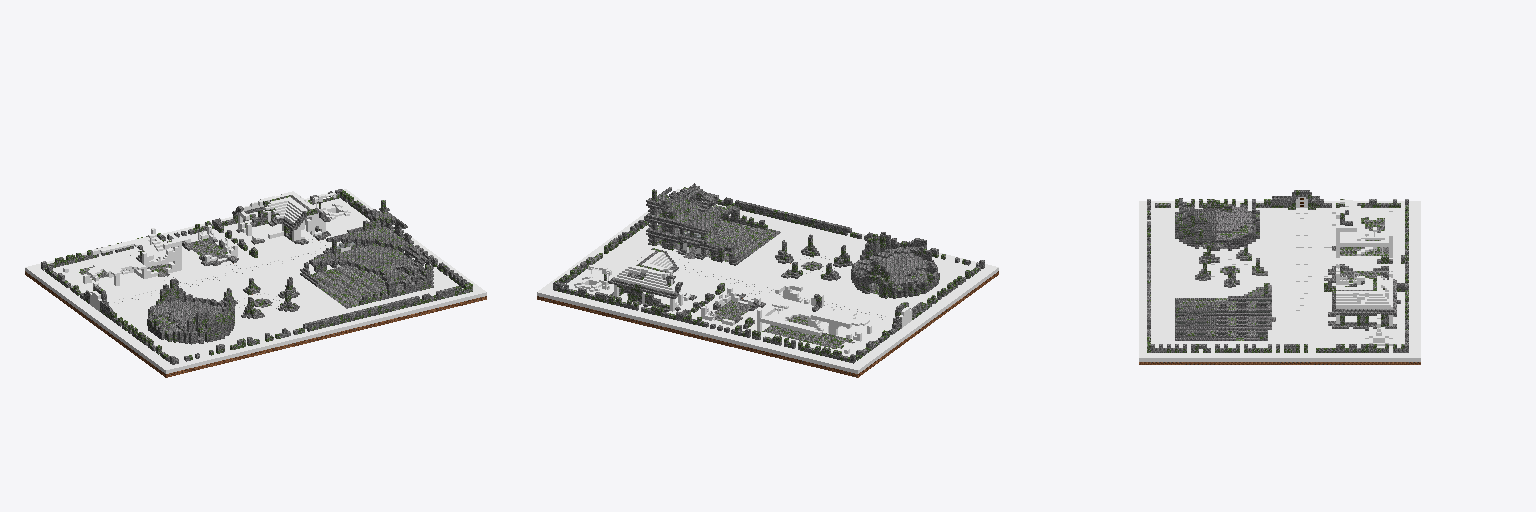
The picture shows the model from 3 angles: view 1: azimuth 30°, elevation 25°; view 2: azimuth 150°, elevation 25°; view 3: azimuth 270°, elevation 25°; orthographic projection.
Visible parts, largest first — view 1: __(1)__-85_2_132_to_6_255_201; view 2: __(1)__-85_2_132_to_6_255_201; view 3: __(1)__-85_2_132_to_6_255_201.
Part boxes in pixels (x1,y1,x2,y2): __(1)__-85_2_132_to_6_255_201: (25,189,486,377); __(1)__-85_2_132_to_6_255_201: (537,183,998,377); __(1)__-85_2_132_to_6_255_201: (1139,190,1420,364).
Size of the model in its own units: 92 by 17 by 70.
21 materials, 8 textured.